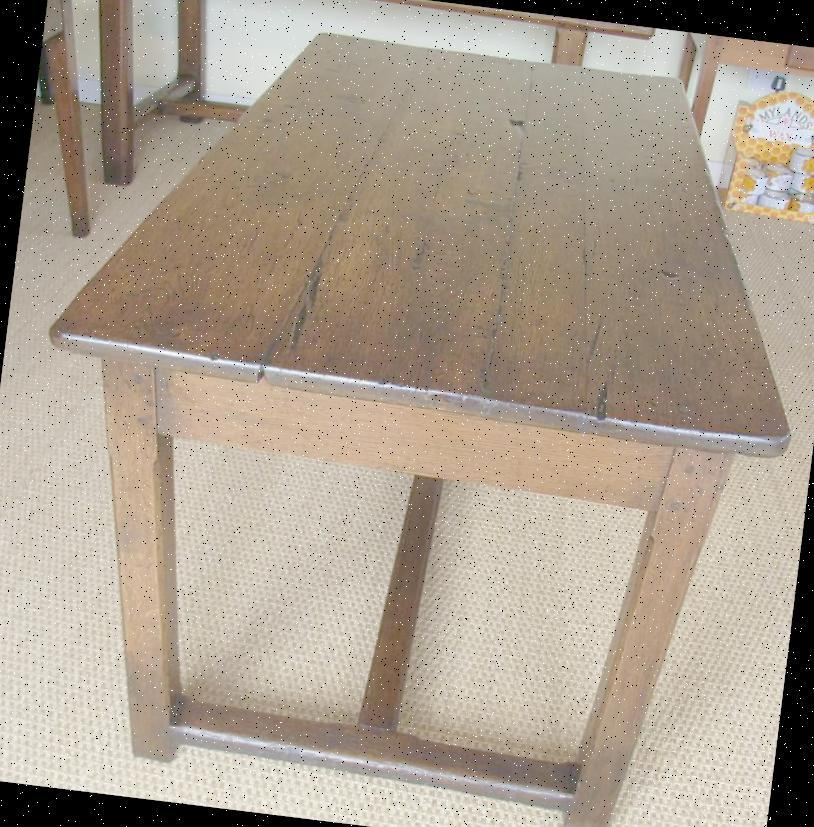Mesa: (0, 5, 813, 826)
